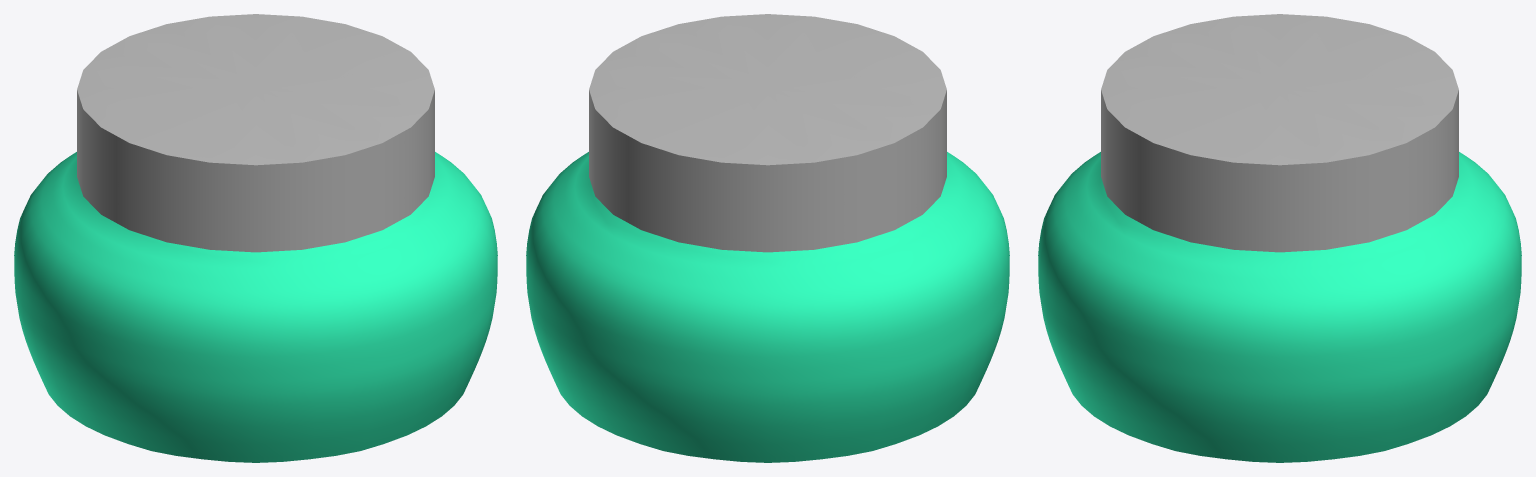
The model's file is cream18.glb.
The picture shows the model from 3 angles, left to right: view 1: azimuth 30°, elevation 25°; view 2: azimuth 150°, elevation 25°; view 3: azimuth 270°, elevation 25°; orthographic projection.
Size of the model in its own units: 0.4068 by 0.2711 by 0.4068.
